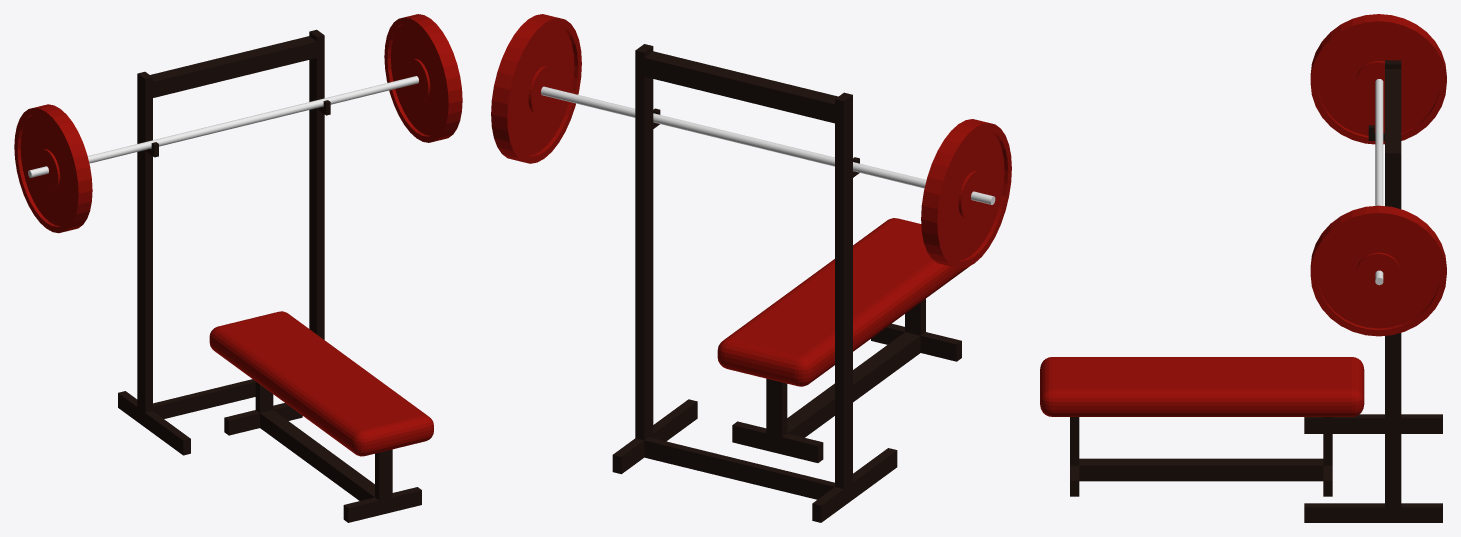
File: 08stand.fbx
3 views of the same model, side by side, from view 1: azimuth 30°, elevation 25°; view 2: azimuth 150°, elevation 25°; view 3: azimuth 270°, elevation 25° (orthographic). The views are drawn at different scales.
Parts seen in each view (by area): view 1: DiskR, Holder, Bench, Leg; view 2: Holder, DiskR, Bench, Leg; view 3: DiskR, Bench, Holder, Leg.
Boxes of the visible parts, box(x1,y1,x2,y2) form: DiskR: box(14, 14, 462, 233); Holder: box(118, 29, 330, 455); Bench: box(209, 311, 433, 456); Leg: box(224, 381, 421, 522); Holder: box(612, 44, 897, 522); DiskR: box(491, 14, 1011, 268); Bench: box(717, 218, 969, 386); Leg: box(732, 299, 961, 462); DiskR: box(1310, 14, 1446, 336); Bench: box(1040, 357, 1364, 416); Holder: box(1304, 60, 1442, 522); Leg: box(1070, 417, 1332, 496).
Size of the model in its own units: 184 by 148 by 148.
